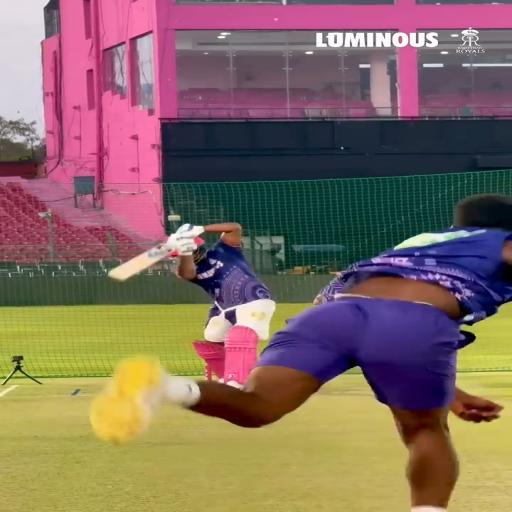Cricket bat: (109, 245, 169, 281)
